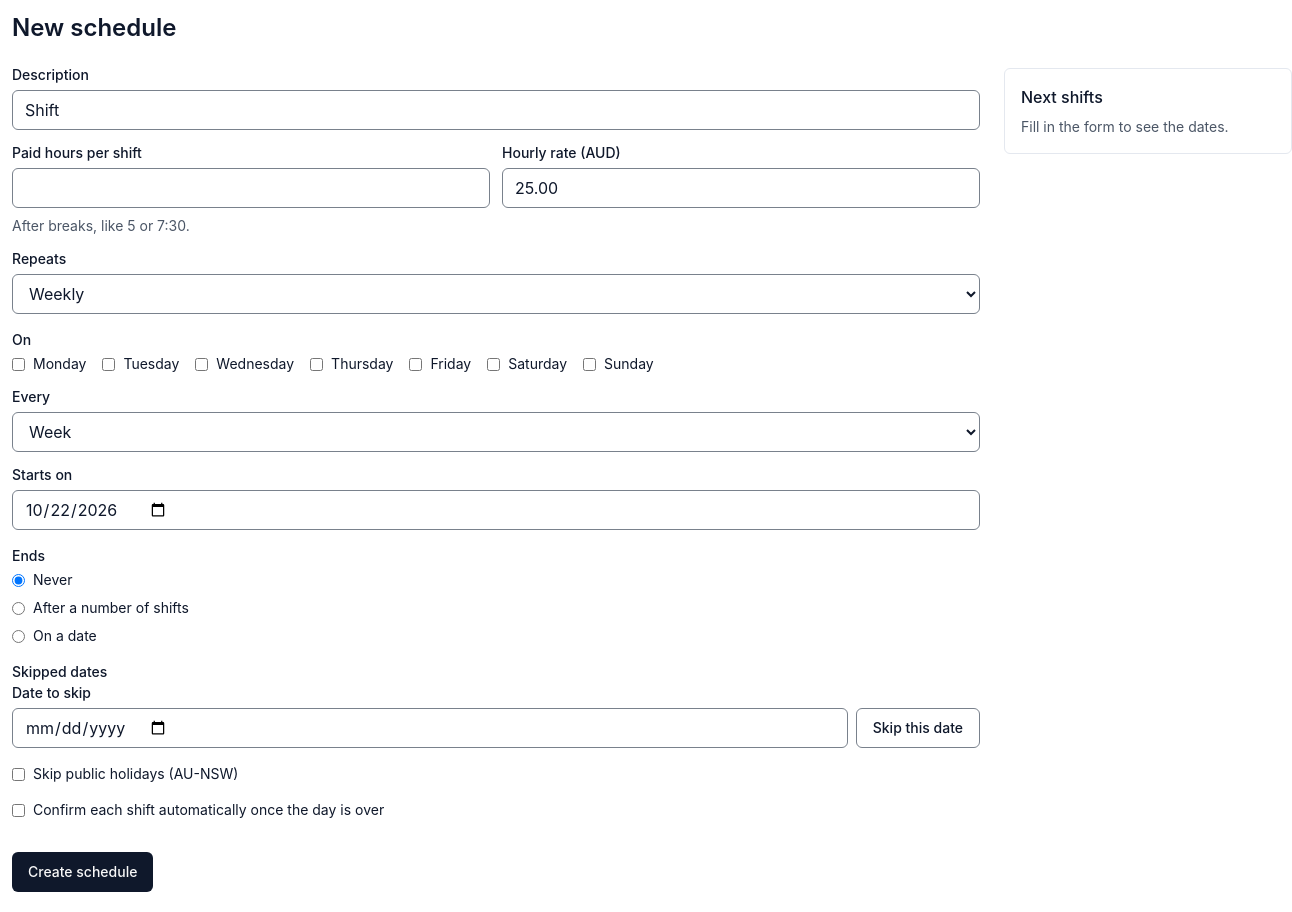
Test case: NewSchedulePage › drops the old dates once the form stops making sense
Click the checkbox labelled "Thursday".
click(317, 364)  # box [310,358,323,370]
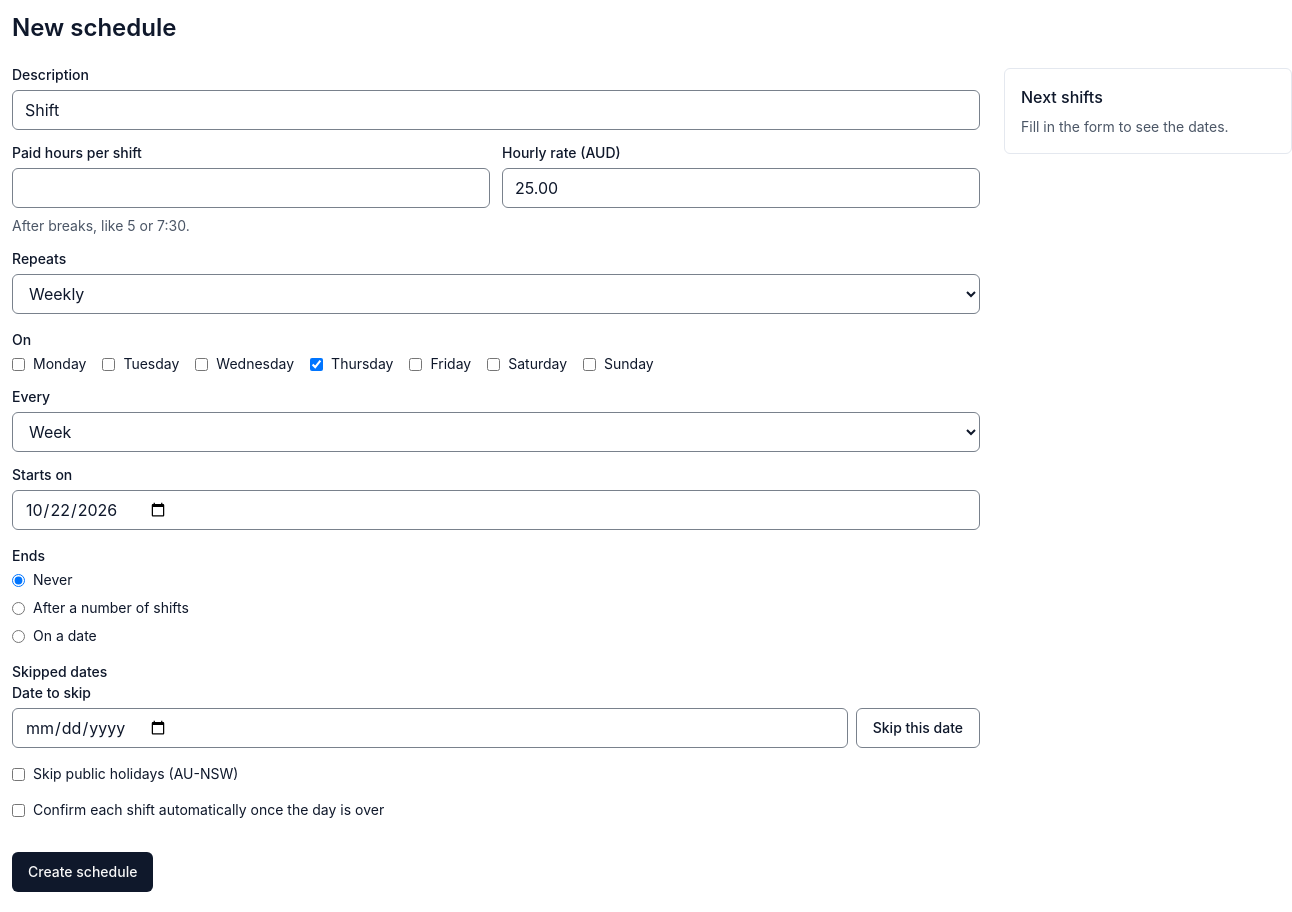
Type "5" into the field labelled "Paid hours per shift".
click(251, 188); type("5")  # box [12,168,490,208]
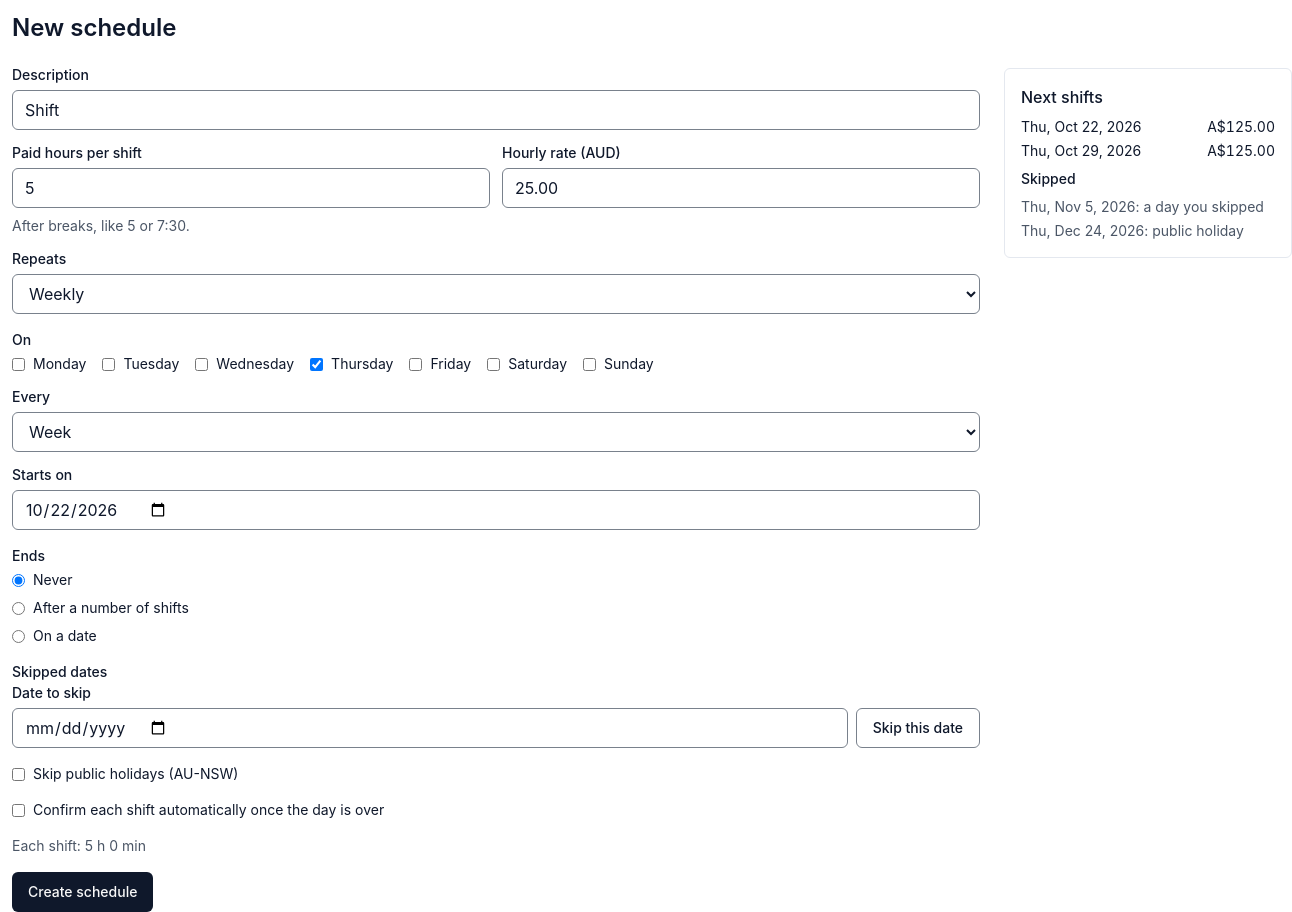
Result: the text "Thu, Oct 22, 2026" is shown at [1021,117,1141,137]
Click the checkbox labelled "Thursday".
click(317, 364)  # box [310,358,323,370]
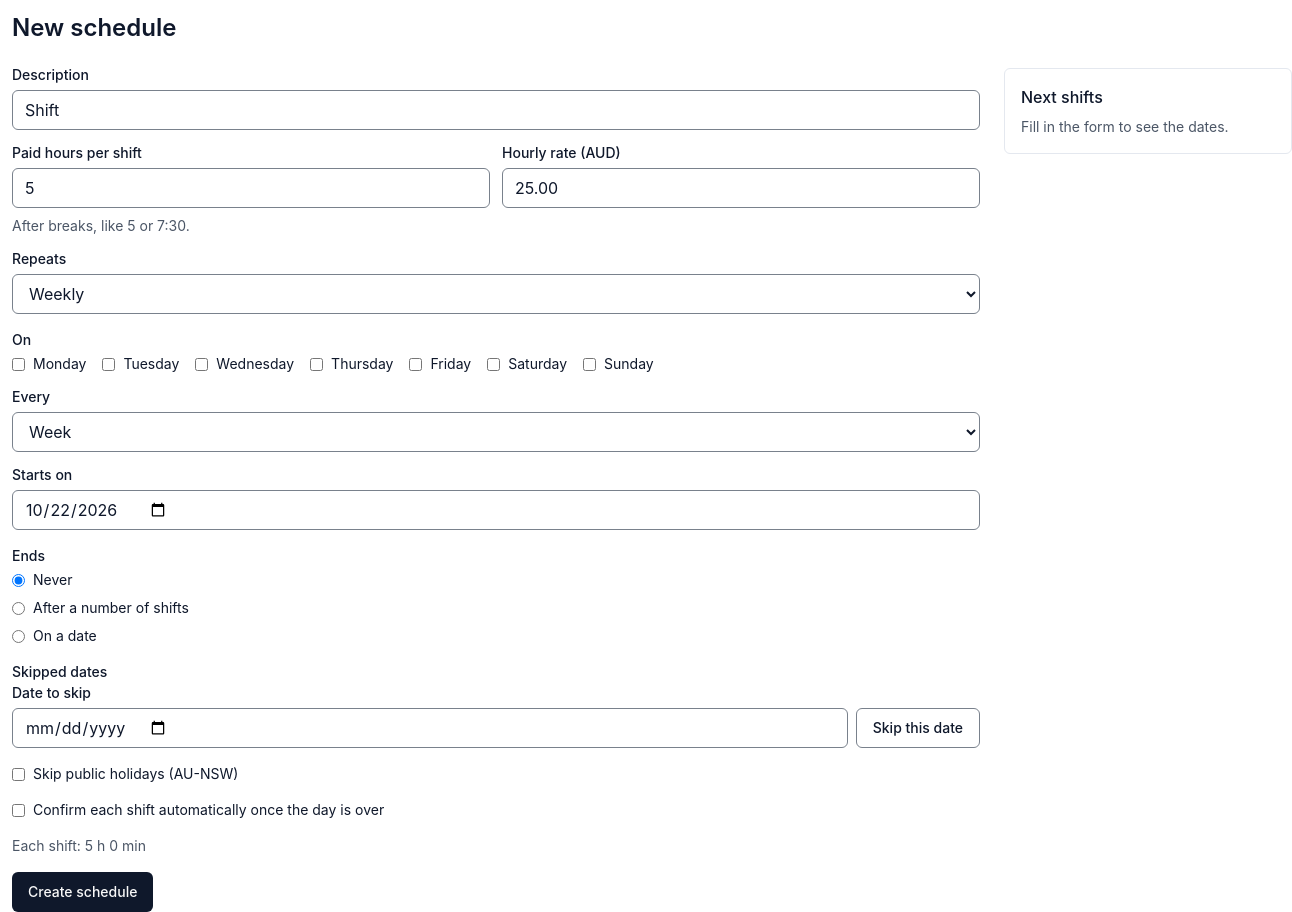
Result: the text "Fill in the form to see the dates." is shown at [1021,118,1229,135]
Result: the text "Thu, Oct 22, 2026" is gone
